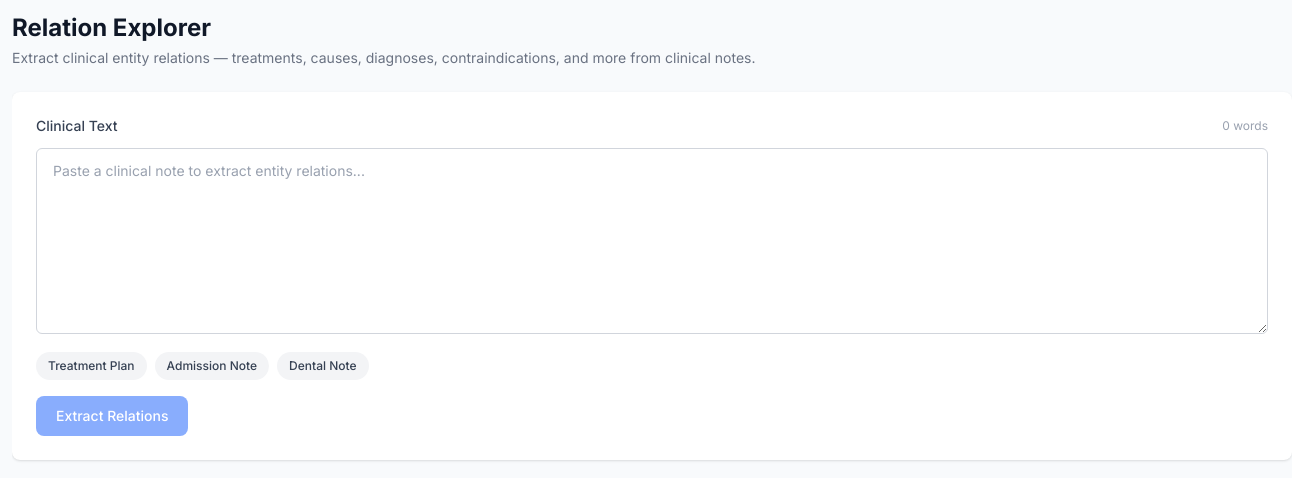
RelationExplorer › sample loading › enables analyze button after loading sample
Click the button "Admission Note" at coordinates (212, 366), box [155,352,269,380]
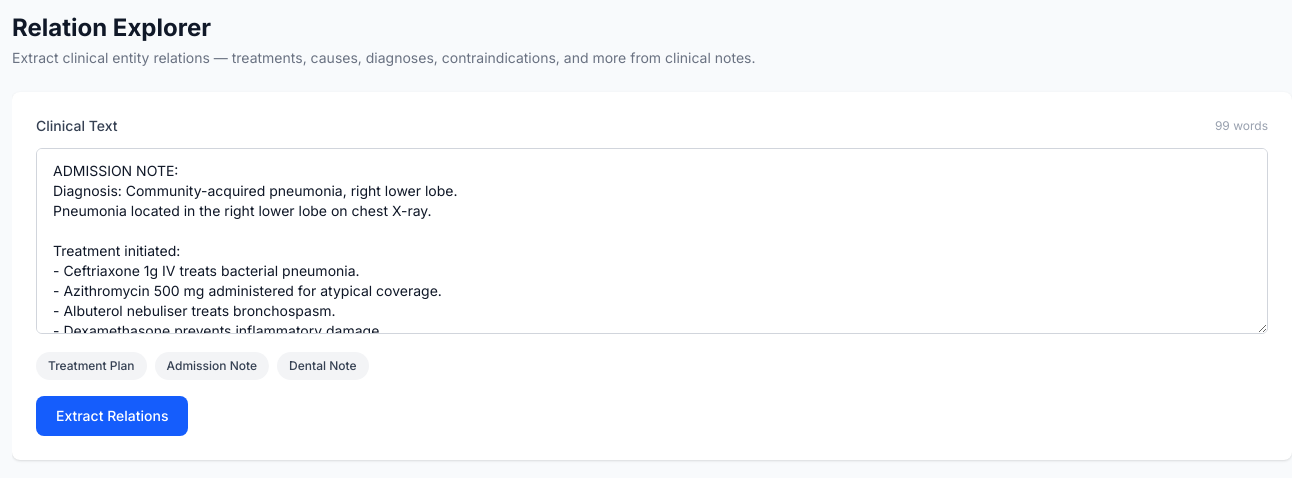
expect the button "Extract Relations" is enabled: met, box [36,396,188,436]
